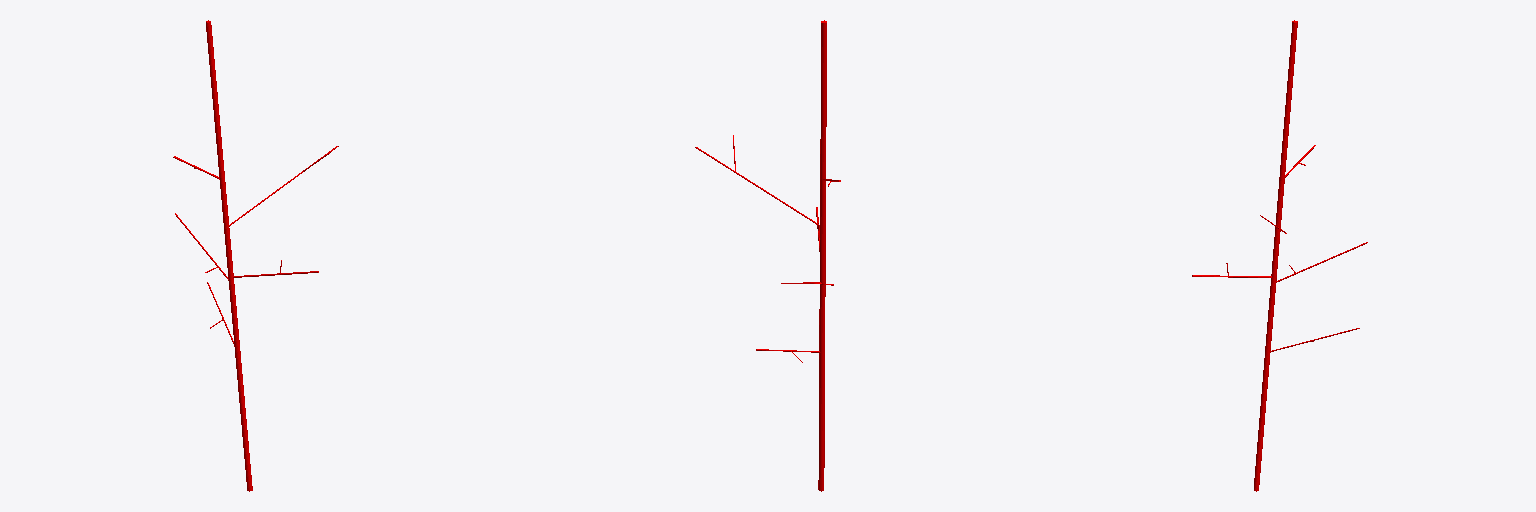
URDF robot description (tree_129.urdf):
<?xml version='1.0' encoding='UTF-8'?>
<robot name="tree_129.urdf">
  <link name="branch_0">
    <inertial>
      <origin xyz="0.0 0.0 0.0" rpy="0.0 -0.0 0.0"/>
      <mass value="0.1"/>
      <inertia ixx="0.001" ixy="0.0" ixz="0.0" iyy="0.001" iyz="0.0" izz="0.001"/>
    </inertial>
    <visual name="branch_0_visual">
      <geometry>
        <cylinder radius="0.05029035161229452" length="9.17465460297973"/>
      </geometry>
      <material name="semantic_material"/>
      <origin xyz="-0.2299893953642872 0.35184675327089665 4.568028076886895" rpy="0.0 0.09176085273821452 2.149742663309633"/>
    </visual>
    <collision name="branch_0_collision">
      <geometry>
        <cylinder radius="0.05029035161229452" length="9.17465460297973"/>
      </geometry>
      <origin xyz="-0.2299893953642872 0.35184675327089665 4.568028076886895" rpy="0.0 0.09176085273821452 2.149742663309633"/>
    </collision>
  </link>
  <link name="branch_1">
    <inertial>
      <origin xyz="0.0 0.0 0.0" rpy="0.0 -0.0 0.0"/>
      <mass value="0.1"/>
      <inertia ixx="0.001" ixy="0.0" ixz="0.0" iyy="0.001" iyz="0.0" izz="0.001"/>
    </inertial>
    <visual name="branch_1_visual">
      <geometry>
        <cylinder radius="0.017014912444042785" length="1.8298400369315357"/>
      </geometry>
      <material name="semantic_material"/>
      <origin xyz="0.0 0.0 0.0" rpy="0.0 -0.0 0.0"/>
    </visual>
    <collision name="branch_1_collision">
      <geometry>
        <cylinder radius="0.017014912444042785" length="1.8298400369315357"/>
      </geometry>
      <origin xyz="0.0 0.0 0.0" rpy="0.0 -0.0 0.0"/>
    </collision>
  </link>
  <link name="branch_2">
    <inertial>
      <origin xyz="0.0 0.0 0.0" rpy="0.0 -0.0 0.0"/>
      <mass value="0.1"/>
      <inertia ixx="0.001" ixy="0.0" ixz="0.0" iyy="0.001" iyz="0.0" izz="0.001"/>
    </inertial>
    <visual name="branch_2_visual">
      <geometry>
        <cylinder radius="0.01" length="0.2802588020577135"/>
      </geometry>
      <material name="semantic_material"/>
      <origin xyz="0.0 0.0 0.0" rpy="0.0 -0.0 0.0"/>
    </visual>
    <collision name="branch_2_collision">
      <geometry>
        <cylinder radius="0.01" length="0.2802588020577135"/>
      </geometry>
      <origin xyz="0.0 0.0 0.0" rpy="0.0 -0.0 0.0"/>
    </collision>
  </link>
  <link name="branch_3">
    <inertial>
      <origin xyz="0.0 0.0 0.0" rpy="0.0 -0.0 0.0"/>
      <mass value="0.1"/>
      <inertia ixx="0.001" ixy="0.0" ixz="0.0" iyy="0.001" iyz="0.0" izz="0.001"/>
    </inertial>
    <visual name="branch_3_visual">
      <geometry>
        <cylinder radius="0.017958868864480594" length="0.9730705332275711"/>
      </geometry>
      <material name="semantic_material"/>
      <origin xyz="0.0 0.0 0.0" rpy="0.0 -0.0 0.0"/>
    </visual>
    <collision name="branch_3_collision">
      <geometry>
        <cylinder radius="0.017958868864480594" length="0.9730705332275711"/>
      </geometry>
      <origin xyz="0.0 0.0 0.0" rpy="0.0 -0.0 0.0"/>
    </collision>
  </link>
  <link name="branch_4">
    <inertial>
      <origin xyz="0.0 0.0 0.0" rpy="0.0 -0.0 0.0"/>
      <mass value="0.1"/>
      <inertia ixx="0.001" ixy="0.0" ixz="0.0" iyy="0.001" iyz="0.0" izz="0.001"/>
    </inertial>
    <visual name="branch_4_visual">
      <geometry>
        <cylinder radius="0.01" length="0.14373920718010993"/>
      </geometry>
      <material name="semantic_material"/>
      <origin xyz="0.0 0.0 0.0" rpy="0.0 -0.0 0.0"/>
    </visual>
    <collision name="branch_4_collision">
      <geometry>
        <cylinder radius="0.01" length="0.14373920718010993"/>
      </geometry>
      <origin xyz="0.0 0.0 0.0" rpy="0.0 -0.0 0.0"/>
    </collision>
  </link>
  <link name="branch_5">
    <inertial>
      <origin xyz="0.0 0.0 0.0" rpy="0.0 -0.0 0.0"/>
      <mass value="0.1"/>
      <inertia ixx="0.001" ixy="0.0" ixz="0.0" iyy="0.001" iyz="0.0" izz="0.001"/>
    </inertial>
    <visual name="branch_5_visual">
      <geometry>
        <cylinder radius="0.013411713525920662" length="2.6103429804675073"/>
      </geometry>
      <material name="semantic_material"/>
      <origin xyz="0.0 0.0 0.0" rpy="0.0 -0.0 0.0"/>
    </visual>
    <collision name="branch_5_collision">
      <geometry>
        <cylinder radius="0.013411713525920662" length="2.6103429804675073"/>
      </geometry>
      <origin xyz="0.0 0.0 0.0" rpy="0.0 -0.0 0.0"/>
    </collision>
  </link>
  <link name="branch_6">
    <inertial>
      <origin xyz="0.0 0.0 0.0" rpy="0.0 -0.0 0.0"/>
      <mass value="0.1"/>
      <inertia ixx="0.001" ixy="0.0" ixz="0.0" iyy="0.001" iyz="0.0" izz="0.001"/>
    </inertial>
    <visual name="branch_6_visual">
      <geometry>
        <cylinder radius="0.01" length="0.6933193412881551"/>
      </geometry>
      <material name="semantic_material"/>
      <origin xyz="0.0 0.0 0.0" rpy="0.0 -0.0 0.0"/>
    </visual>
    <collision name="branch_6_collision">
      <geometry>
        <cylinder radius="0.01" length="0.6933193412881551"/>
      </geometry>
      <origin xyz="0.0 0.0 0.0" rpy="0.0 -0.0 0.0"/>
    </collision>
  </link>
  <link name="branch_7">
    <inertial>
      <origin xyz="0.0 0.0 0.0" rpy="0.0 -0.0 0.0"/>
      <mass value="0.1"/>
      <inertia ixx="0.001" ixy="0.0" ixz="0.0" iyy="0.001" iyz="0.0" izz="0.001"/>
    </inertial>
    <visual name="branch_7_visual">
      <geometry>
        <cylinder radius="0.01275926793684786" length="1.803660853975988"/>
      </geometry>
      <material name="semantic_material"/>
      <origin xyz="0.0 0.0 0.0" rpy="0.0 -0.0 0.0"/>
    </visual>
    <collision name="branch_7_collision">
      <geometry>
        <cylinder radius="0.01275926793684786" length="1.803660853975988"/>
      </geometry>
      <origin xyz="0.0 0.0 0.0" rpy="0.0 -0.0 0.0"/>
    </collision>
  </link>
  <link name="branch_8">
    <inertial>
      <origin xyz="0.0 0.0 0.0" rpy="0.0 -0.0 0.0"/>
      <mass value="0.1"/>
      <inertia ixx="0.001" ixy="0.0" ixz="0.0" iyy="0.001" iyz="0.0" izz="0.001"/>
    </inertial>
    <visual name="branch_8_visual">
      <geometry>
        <cylinder radius="0.01" length="0.2980946067625668"/>
      </geometry>
      <material name="semantic_material"/>
      <origin xyz="0.0 0.0 0.0" rpy="0.0 -0.0 0.0"/>
    </visual>
    <collision name="branch_8_collision">
      <geometry>
        <cylinder radius="0.01" length="0.2980946067625668"/>
      </geometry>
      <origin xyz="0.0 0.0 0.0" rpy="0.0 -0.0 0.0"/>
    </collision>
  </link>
  <link name="branch_9">
    <inertial>
      <origin xyz="0.0 0.0 0.0" rpy="0.0 -0.0 0.0"/>
      <mass value="0.1"/>
      <inertia ixx="0.001" ixy="0.0" ixz="0.0" iyy="0.001" iyz="0.0" izz="0.001"/>
    </inertial>
    <visual name="branch_9_visual">
      <geometry>
        <cylinder radius="0.014134322674753867" length="1.8666668555975243"/>
      </geometry>
      <material name="semantic_material"/>
      <origin xyz="0.0 0.0 0.0" rpy="0.0 -0.0 0.0"/>
    </visual>
    <collision name="branch_9_collision">
      <geometry>
        <cylinder radius="0.014134322674753867" length="1.8666668555975243"/>
      </geometry>
      <origin xyz="0.0 0.0 0.0" rpy="0.0 -0.0 0.0"/>
    </collision>
  </link>
  <link name="branch_10">
    <inertial>
      <origin xyz="0.0 0.0 0.0" rpy="0.0 -0.0 0.0"/>
      <mass value="0.1"/>
      <inertia ixx="0.001" ixy="0.0" ixz="0.0" iyy="0.001" iyz="0.0" izz="0.001"/>
    </inertial>
    <visual name="branch_10_visual">
      <geometry>
        <cylinder radius="0.01" length="0.35724609266505075"/>
      </geometry>
      <material name="semantic_material"/>
      <origin xyz="0.0 0.0 0.0" rpy="0.0 -0.0 0.0"/>
    </visual>
    <collision name="branch_10_collision">
      <geometry>
        <cylinder radius="0.01" length="0.35724609266505075"/>
      </geometry>
      <origin xyz="0.0 0.0 0.0" rpy="0.0 -0.0 0.0"/>
    </collision>
  </link>
  <joint name="joint_0_1" type="fixed">
    <parent link="branch_0"/>
    <child link="branch_1"/>
    <axis xyz="1. 0. 0."/>
    <origin xyz="0.27573676293992755 -0.4184424722409192 4.392218797220275" rpy="-0.0007243016175833896 1.3074342983364176 -0.9905002233524052"/>
  </joint>
  <joint name="joint_0_3" type="fixed">
    <parent link="branch_0"/>
    <child link="branch_3"/>
    <axis xyz="1. 0. 0."/>
    <origin xyz="-0.6398078327784495 0.7652714777693351 6.239888202376683" rpy="0.06452432082094714 1.175183748395331 2.4828147308720867"/>
  </joint>
  <joint name="joint_0_5" type="fixed">
    <parent link="branch_0"/>
    <child link="branch_5"/>
    <axis xyz="1. 0. 0."/>
    <origin xyz="0.9447071049231843 0.46791821312756815 5.622953505899249" rpy="-0.20054083180138627 1.1674798763469951 -0.1564800326708652"/>
  </joint>
  <joint name="joint_0_7" type="fixed">
    <parent link="branch_0"/>
    <child link="branch_7"/>
    <axis xyz="1. 0. 0."/>
    <origin xyz="0.030371967747496648 1.0348744616180414 3.008852351611037" rpy="-0.18516470134495708 1.2043202229589354 1.174988002478644"/>
  </joint>
  <joint name="joint_0_9" type="fixed">
    <parent link="branch_0"/>
    <child link="branch_9"/>
    <axis xyz="1. 0. 0."/>
    <origin xyz="-0.29535367019042774 1.164723747719102 4.400792541859214" rpy="-0.110050363250919 1.1660154896606127 1.5586926246475499"/>
  </joint>
  <joint name="joint_1_2" type="fixed">
    <parent link="branch_0"/>
    <child link="branch_2"/>
    <axis xyz="1. 0. 0."/>
    <origin xyz="0.3432259113863017 -0.5159413623650988 4.5582196007012845" rpy="0.021787389643634324 -0.1294898559804427 2.1432026234125097"/>
  </joint>
  <joint name="joint_3_4" type="fixed">
    <parent link="branch_0"/>
    <child link="branch_4"/>
    <axis xyz="1. 0. 0."/>
    <origin xyz="-0.6374887691183327 0.8240914297354174 6.208954768173401" rpy="-2.065672271114137 0.70411639244623 -0.23910668498185994"/>
  </joint>
  <joint name="joint_5_6" type="fixed">
    <parent link="branch_0"/>
    <child link="branch_6"/>
    <axis xyz="1. 0. 0."/>
    <origin xyz="1.5376895358951996 0.2831848573661412 6.040837466800574" rpy="-0.8384877052969212 -0.031605520150187506 -2.564162845824898"/>
  </joint>
  <joint name="joint_7_8" type="fixed">
    <parent link="branch_0"/>
    <child link="branch_8"/>
    <axis xyz="1. 0. 0."/>
    <origin xyz="-0.10750297452802907 1.0169544722221875 2.923648864287847" rpy="2.0782690911324755 0.2725403656620439 -1.5925094550712982"/>
  </joint>
  <joint name="joint_9_10" type="fixed">
    <parent link="branch_0"/>
    <child link="branch_10"/>
    <axis xyz="1. 0. 0."/>
    <origin xyz="-0.41665663786056334 0.6609873824353275 4.209558812789731" rpy="1.568562927487894 0.41068741205566645 -1.2532963250146574"/>
  </joint>
  <material name="semantic_material">
    <color rgba="1. 0. 0. 1."/>
  </material>
</robot>

--- What the picture shows (computed from the rendered views, not written in the file) ---
Views: 3 orthographic renders of the robot side by side, from view 1: azimuth 30°, elevation 25°; view 2: azimuth 150°, elevation 25°; view 3: azimuth 270°, elevation 25°.
Robot: tree_129.urdf — 11 links, 10 joints (10 fixed); root link branch_0; default pose: every joint at zero.
Visible links, largest first — view 1: branch_0; view 2: branch_0; view 3: branch_0.
Boxes of the visible links, left/top/right/bottom form: branch_0: left=206, top=20, right=252, bottom=491; branch_0: left=818, top=20, right=826, bottom=491; branch_0: left=1254, top=20, right=1297, bottom=491.
Bounding box of the posed robot: 3.14 × 3.19 × 9.15 m (x, y, z).
Geometry: primitives only (box / cylinder / sphere), no mesh files.
